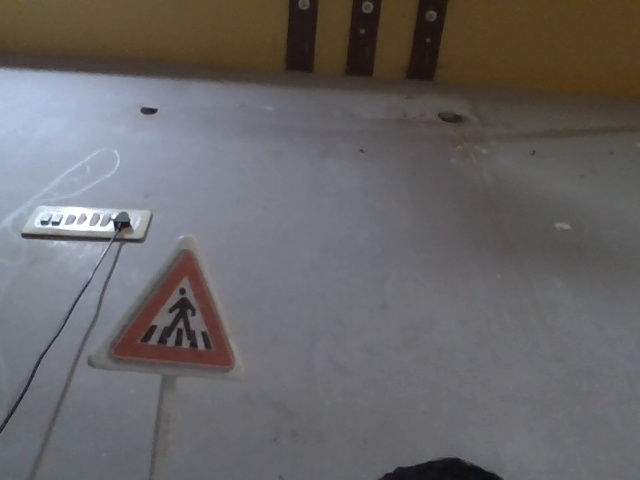crossing: (87, 226, 243, 368)
